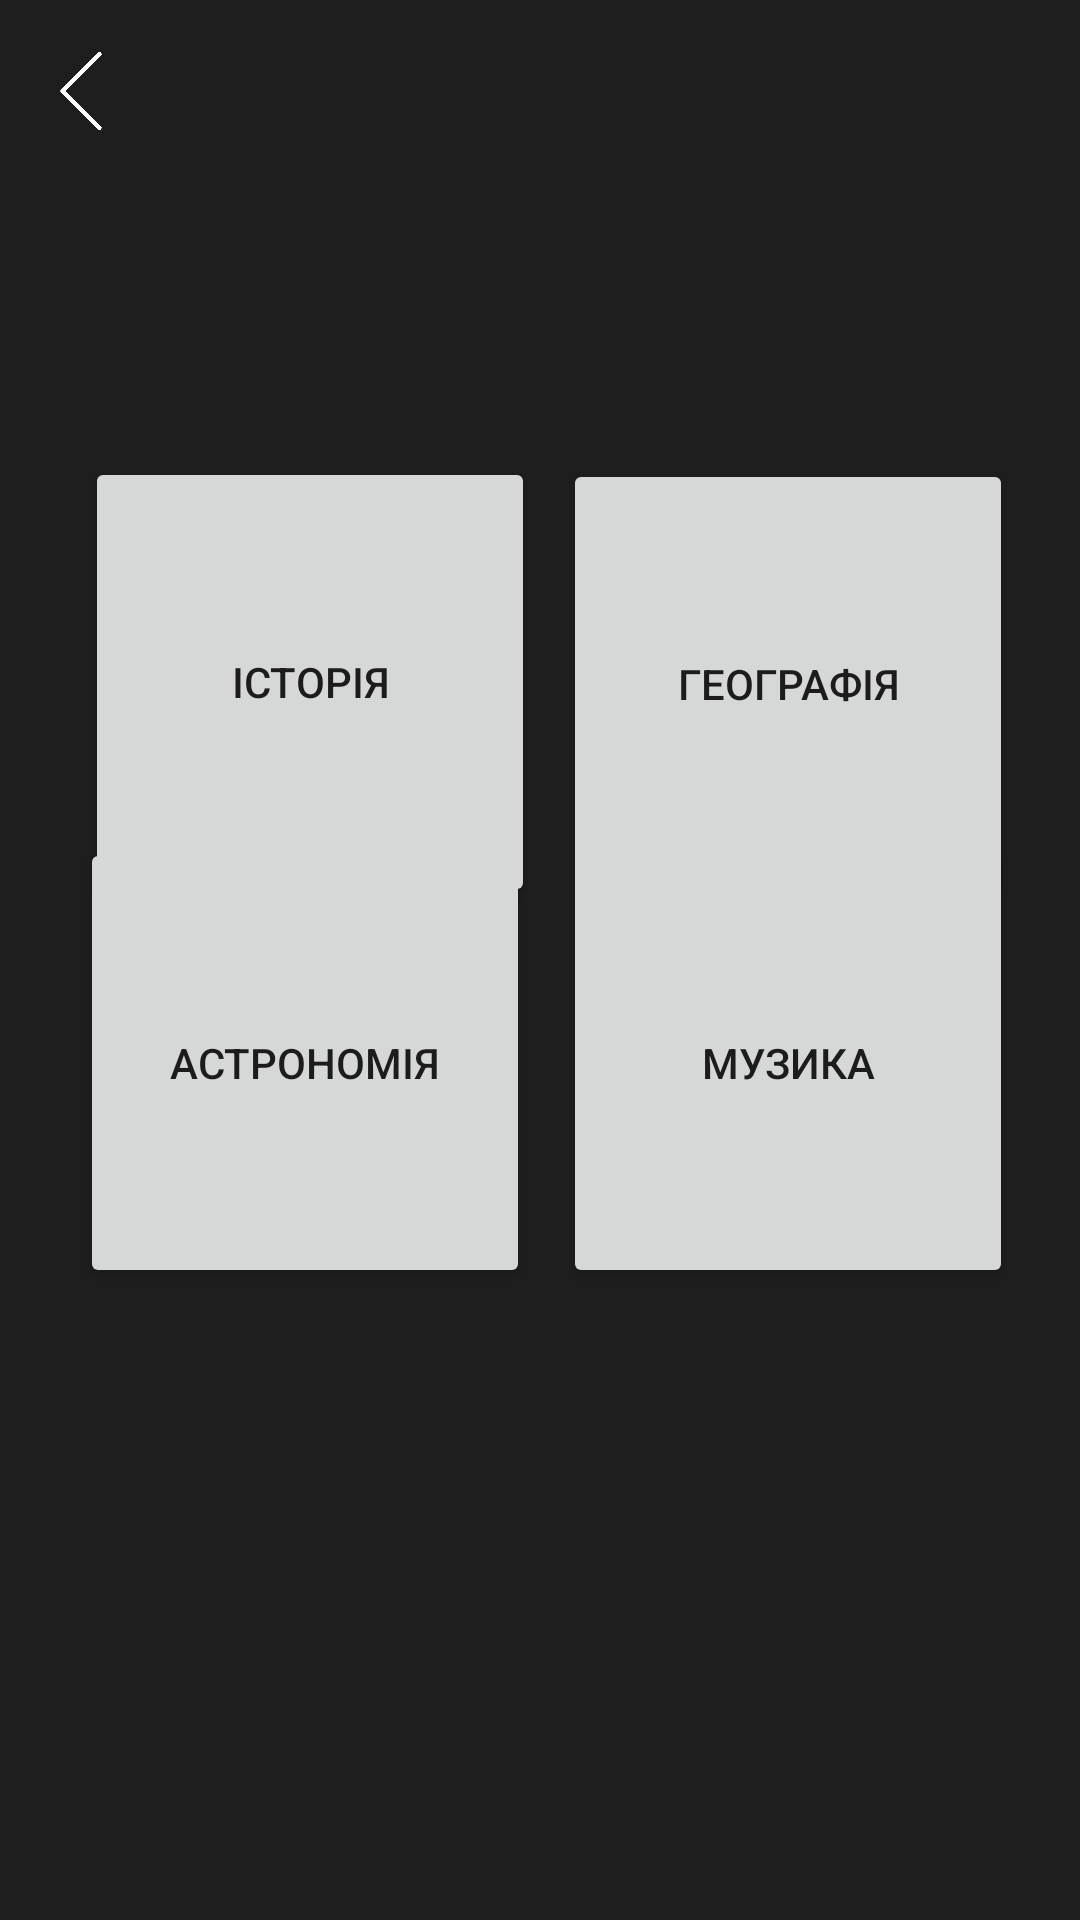

Icon bounding boxes for this 1080*1920 phone screenshot, format (x1, y1, x2, y2):
back: (60, 52, 102, 130)
